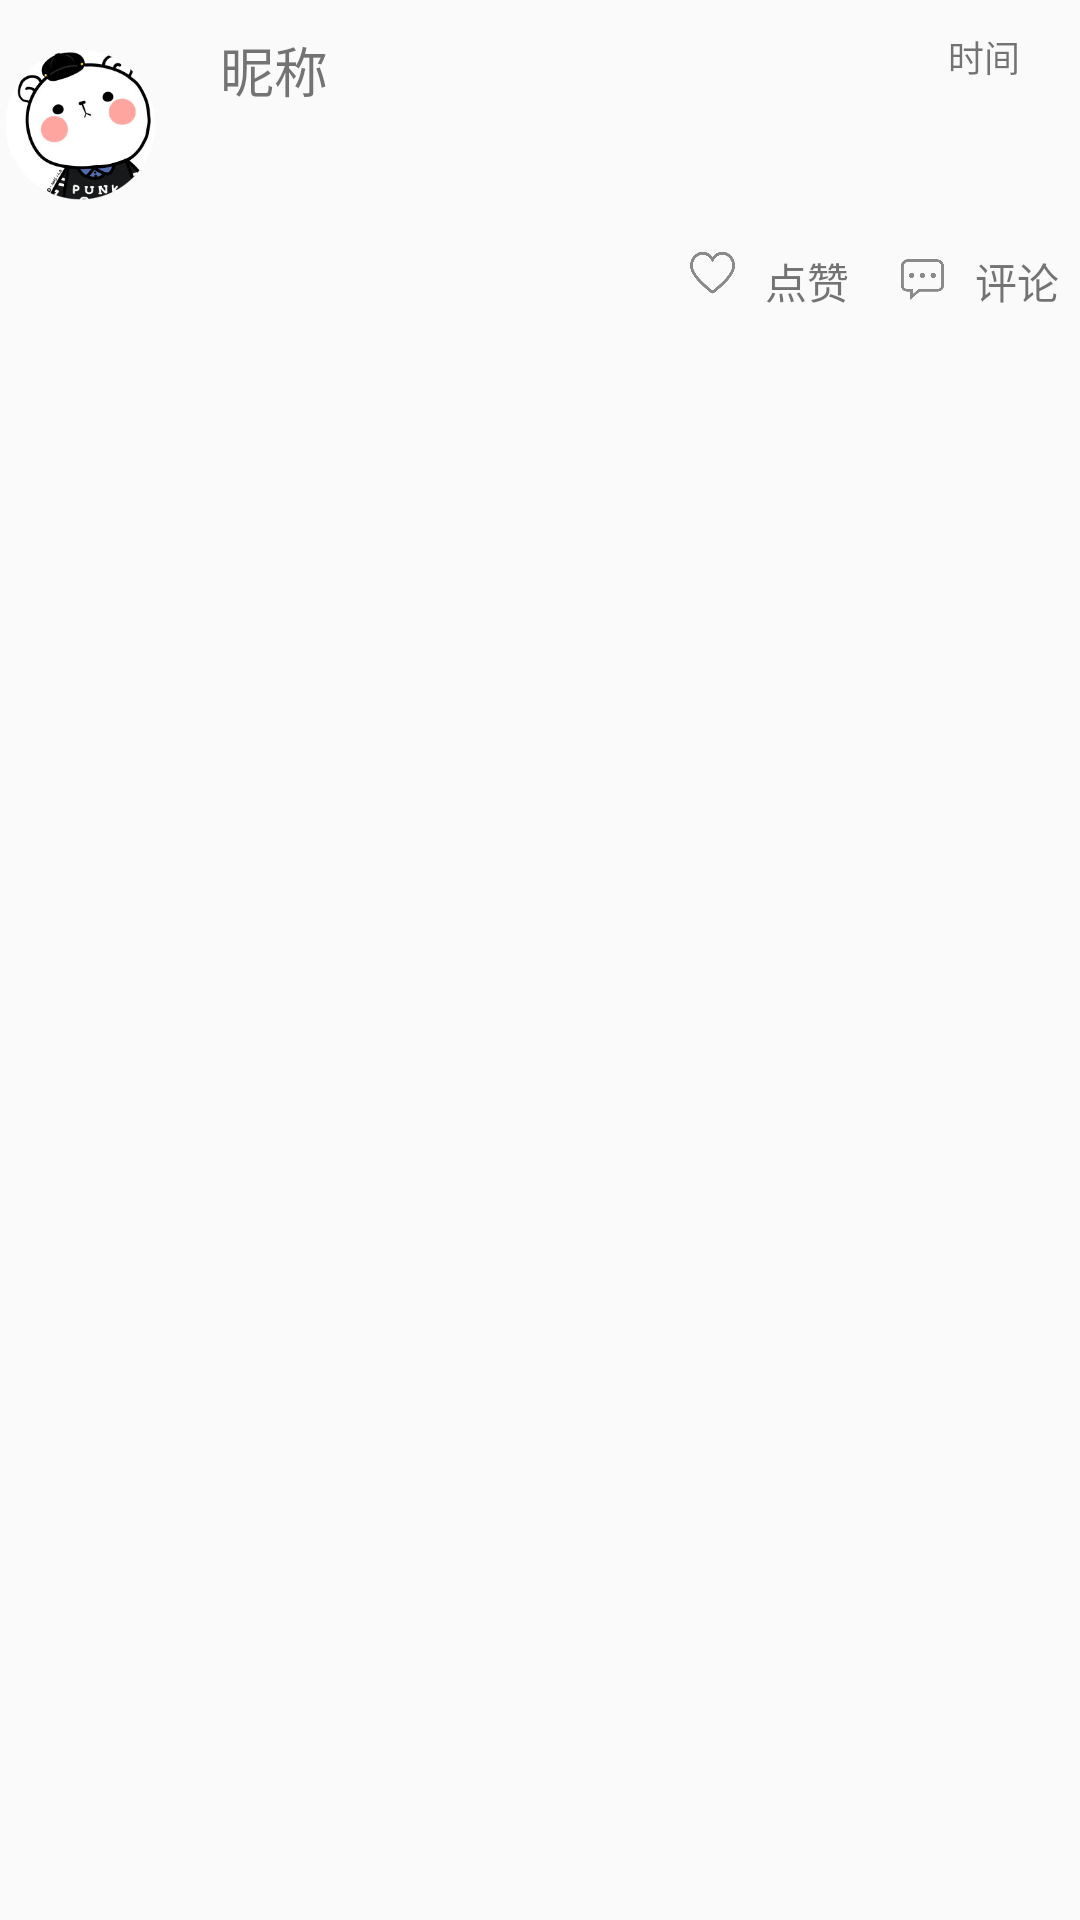

Screen size 1080px×1920px. Icon name, then its box in pixels as (x1, y1, x2, y2):
head: (17, 52, 151, 200)
message: (901, 259, 944, 300)
paiseimage: (690, 252, 735, 294)
